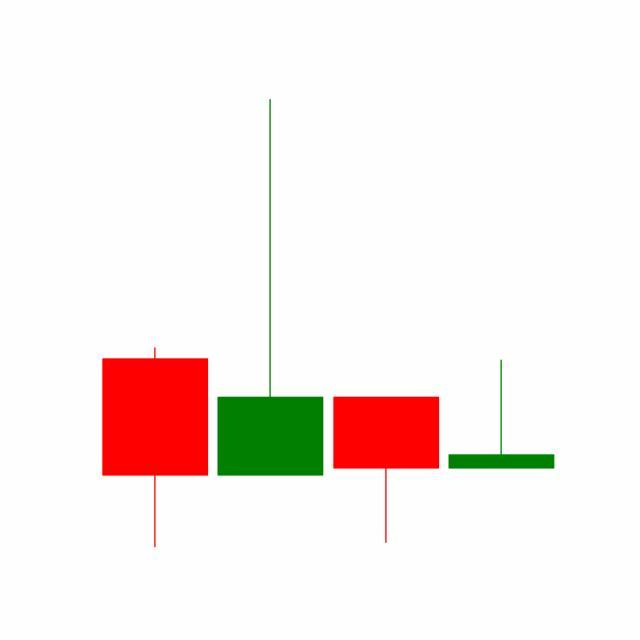Gravestone Doji: (444, 359, 560, 471)
